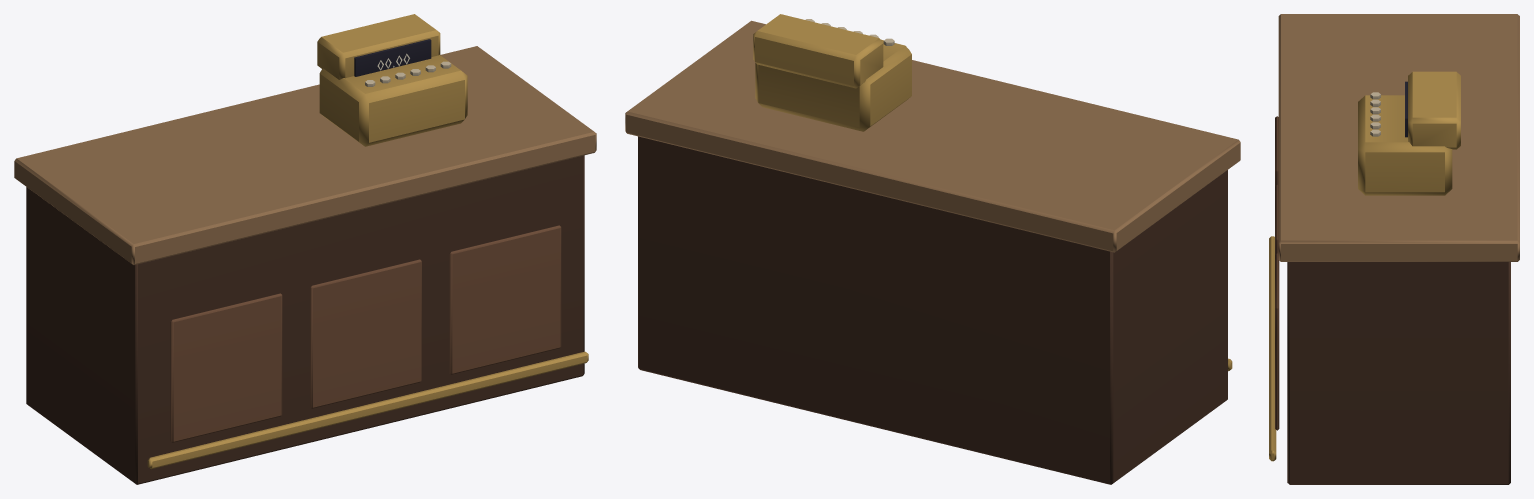
The model's file is counter_checkout.glb.
The picture shows the model from 3 angles, left to right: view 1: azimuth 30°, elevation 25°; view 2: azimuth 150°, elevation 25°; view 3: azimuth 270°, elevation 25°; orthographic projection. The views are drawn at different scales.
Parts seen in each view (by area): view 1: counter_checkout; view 2: counter_checkout; view 3: counter_checkout.
Boxes of the visible parts, x1=… form: counter_checkout: x1=14, y1=14, x2=596, y2=484; counter_checkout: x1=625, y1=14, x2=1240, y2=484; counter_checkout: x1=1269, y1=14, x2=1519, y2=484.
Size of the model in its own units: 1.84 by 1.22 by 0.8525.
